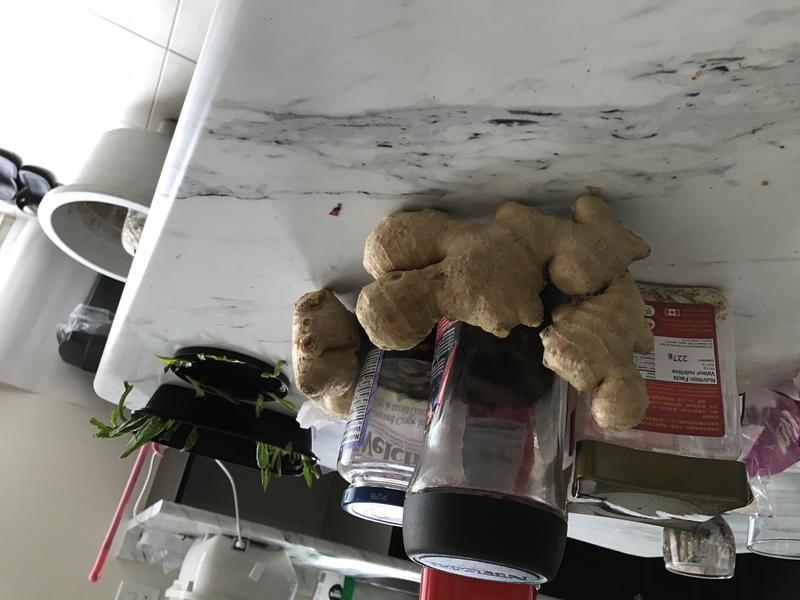ginger: (349, 170, 664, 436), (280, 282, 370, 428)
